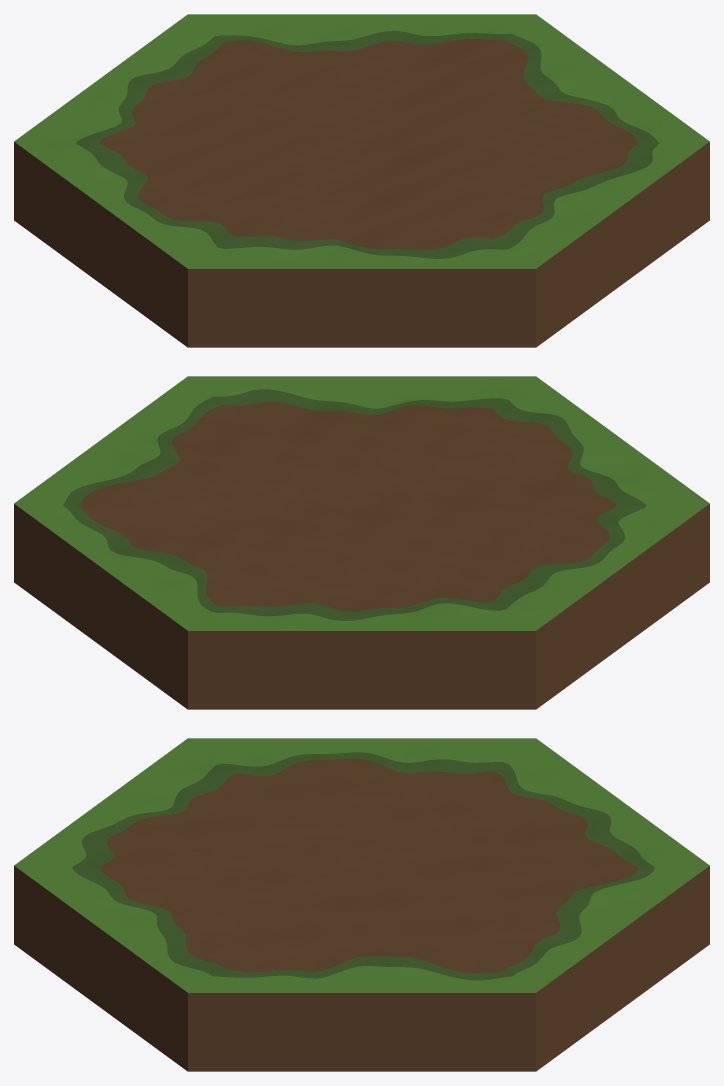
The model's file is forest_base.glb.
3 views of the same model, one above another, from view 1: azimuth 30°, elevation 25°; view 2: azimuth 150°, elevation 25°; view 3: azimuth 270°, elevation 25° (orthographic).
Parts seen in each view (by area): view 1: forest_base_lod0; view 2: forest_base_lod0; view 3: forest_base_lod0.
Part boxes in pixels (bbox=[...]): forest_base_lod0: bbox=[14, 14, 709, 347]; forest_base_lod0: bbox=[14, 376, 709, 709]; forest_base_lod0: bbox=[14, 738, 709, 1071].
Size of what is drawn, in the model's own units: 27.71 by 4 by 32.
